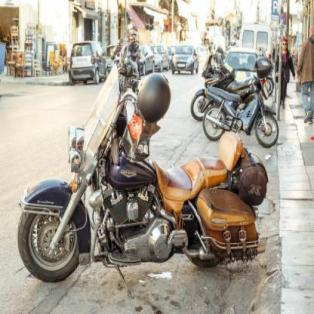Motocicleta: (10, 84, 276, 286)
